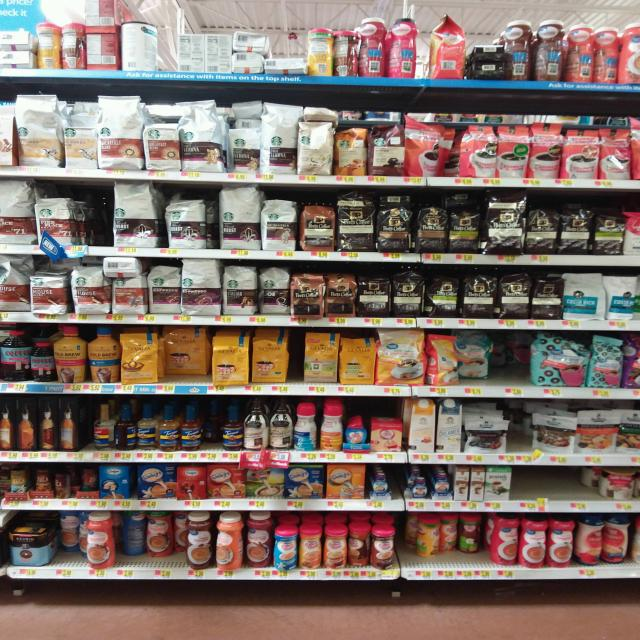empty: (509, 460, 603, 504), (85, 182, 117, 247)
